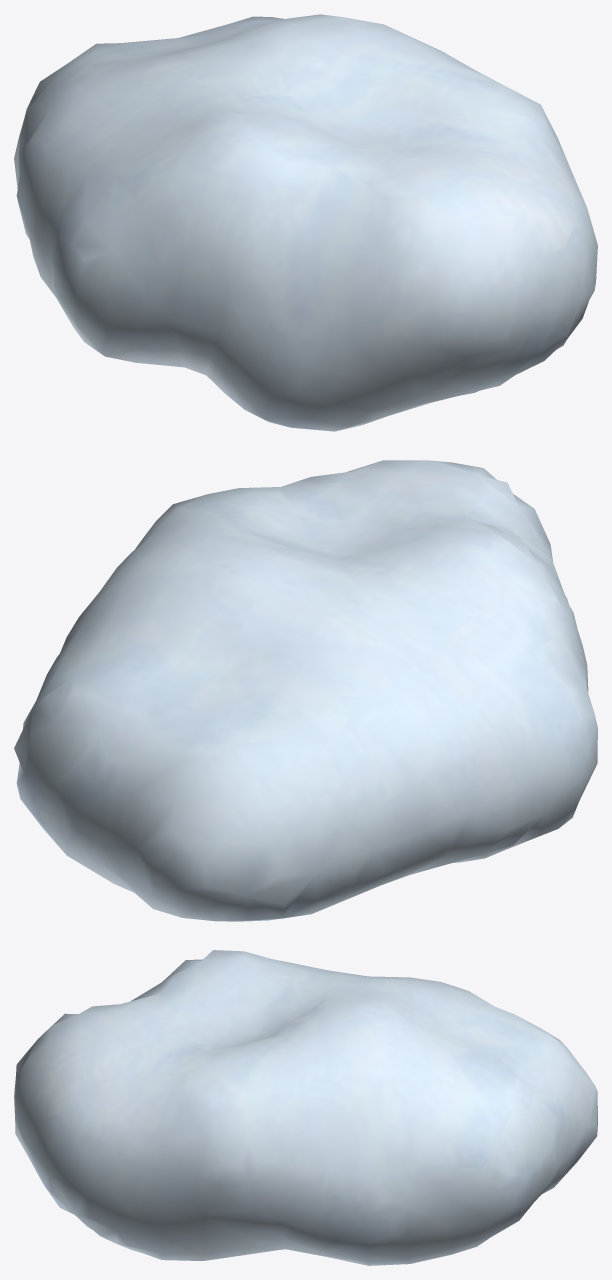
The model's file is Cloud.fbx.
The picture shows the model from 3 angles, top to bottom: view 1: azimuth 30°, elevation 25°; view 2: azimuth 150°, elevation 25°; view 3: azimuth 270°, elevation 25°; orthographic projection. The views are drawn at different scales.
Parts seen in each view (by area): view 1: Mball.017; view 2: Mball.017; view 3: Mball.017.
Part boxes in pixels (x1,y1,x2,y2): Mball.017: (14,14,597,431); Mball.017: (14,460,597,921); Mball.017: (14,950,597,1265).
Size of the model in its own units: 569 by 345 by 762.
